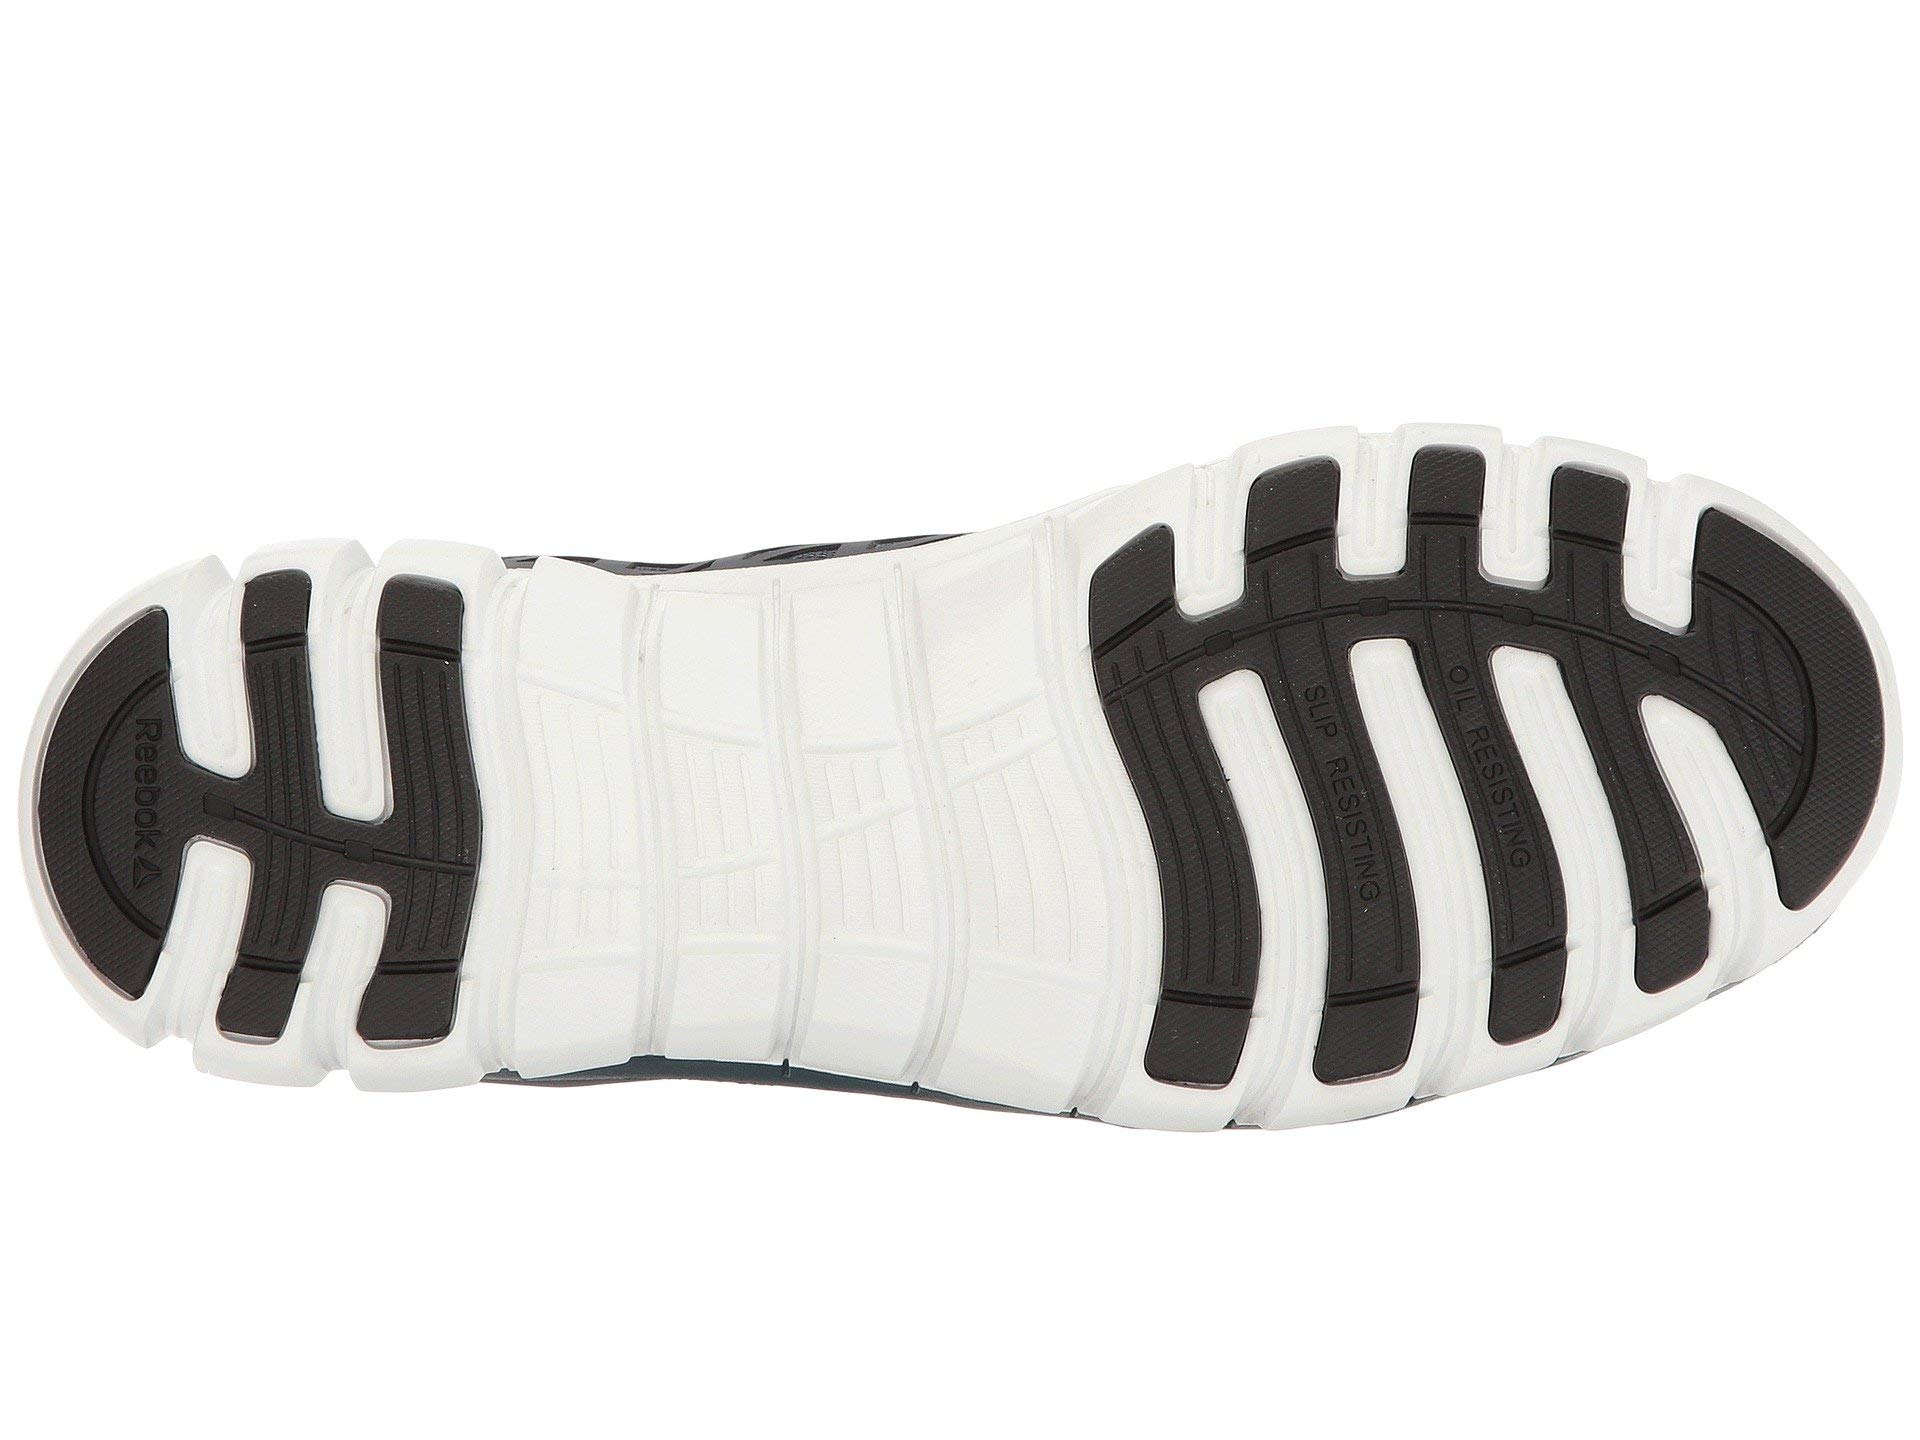quad: (62, 709, 476, 976), (1194, 631, 1562, 924)
text: (62, 709, 476, 976), (1194, 631, 1562, 924)
